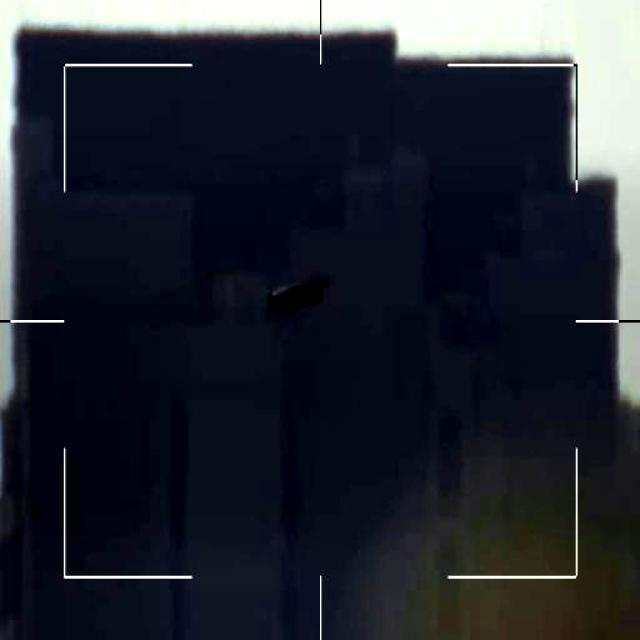bird: (259, 272, 320, 321)
